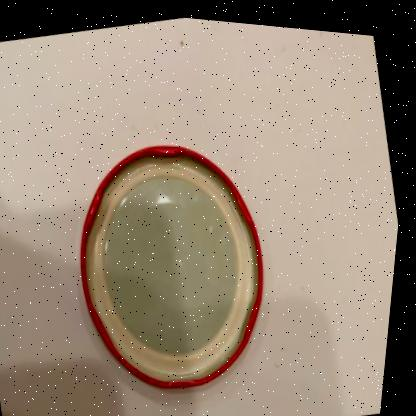Metal: (85, 142, 268, 384)
